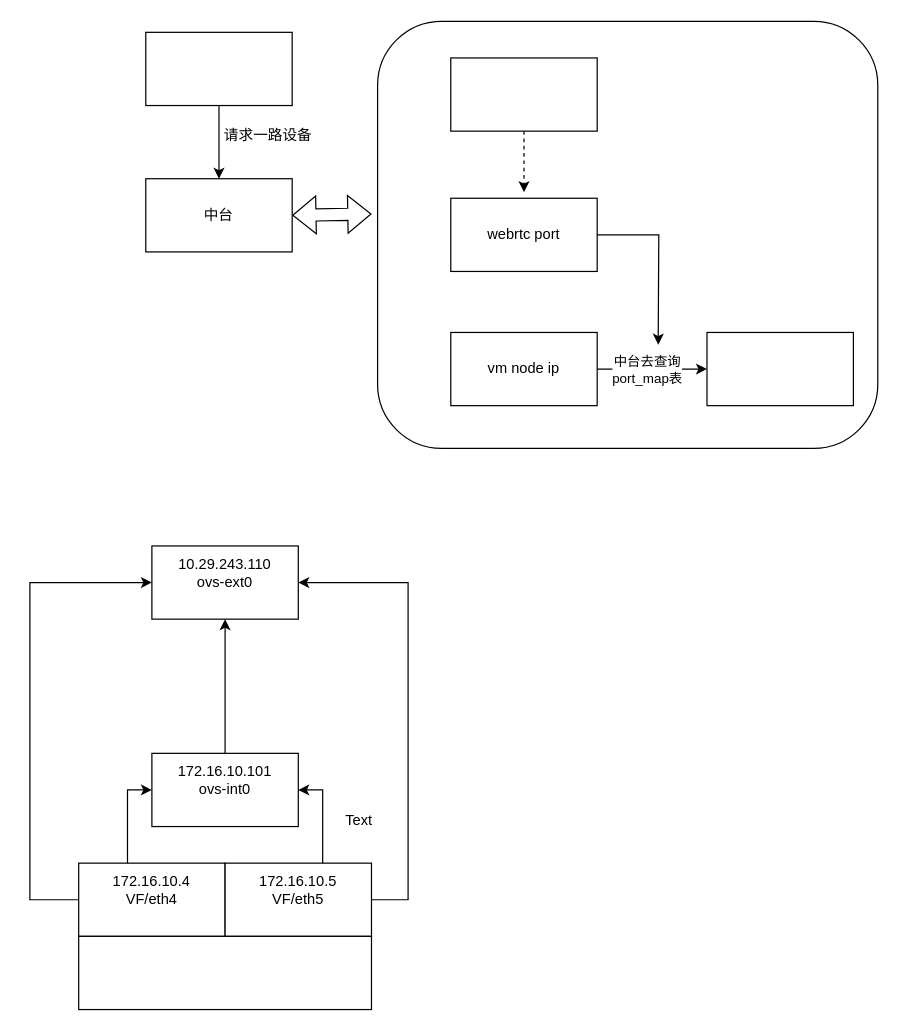
The diagram is 899 pixels wide and 1031 high, and some of its shapes have lost their labels. Each missing label, with the centre of its shape:
app: (218,68)
clb 外网IP: (779,368)
PF/eth0: (224,972)
准备设备等操作: (523,94)
